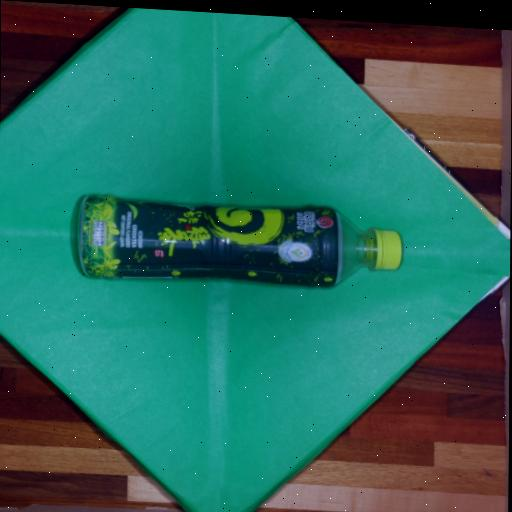bottle: (79, 196, 401, 287)
